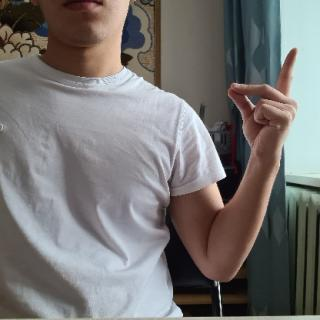TAA: (225, 46, 303, 162)
